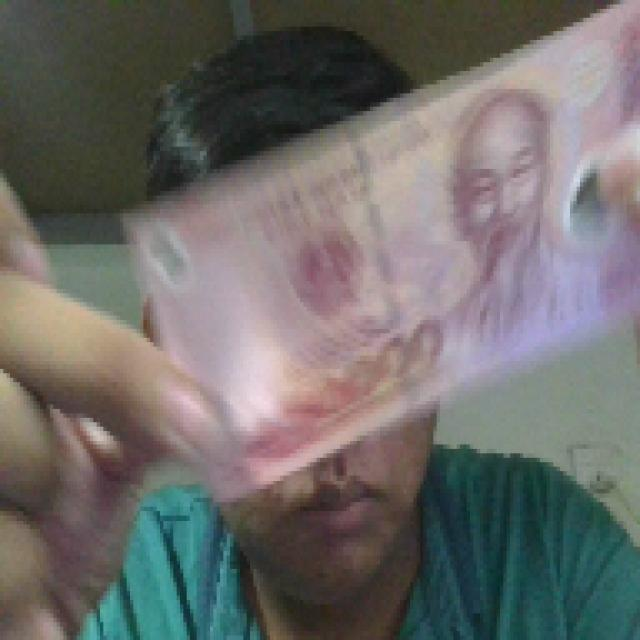50 000 VND: (123, 0, 637, 502)
